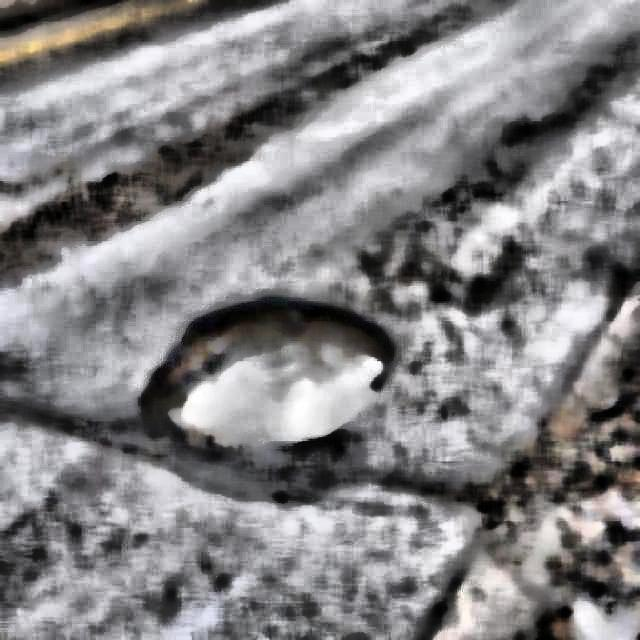buraco: (144, 298, 396, 438)
